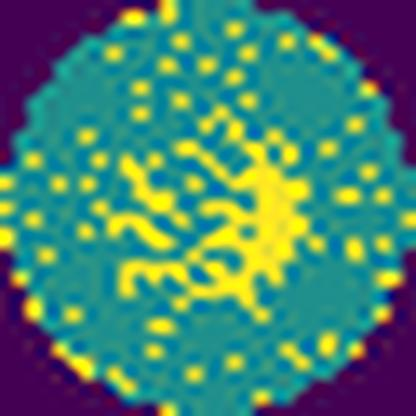Donut: (52, 92, 322, 336)
